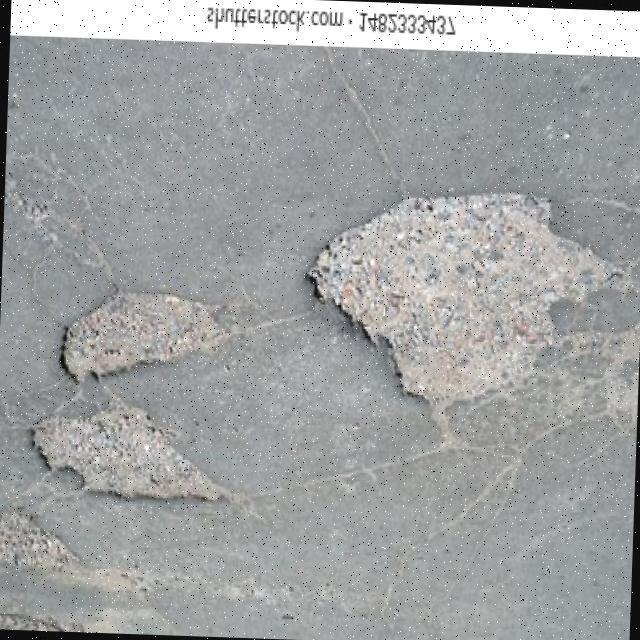Pothole: (308, 190, 602, 421), (29, 408, 225, 499), (61, 289, 230, 381), (0, 510, 78, 564)
